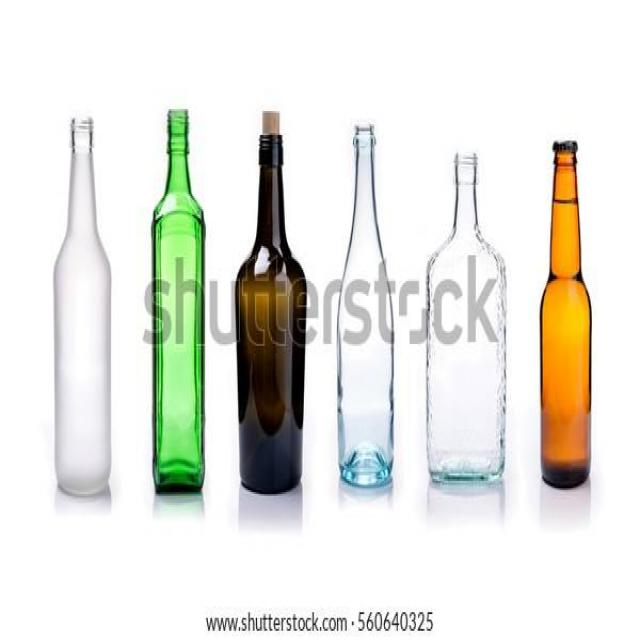non-organic waste: (417, 138, 512, 511), (228, 91, 307, 501), (46, 107, 120, 509), (327, 108, 398, 502), (532, 129, 600, 489), (147, 98, 206, 501)
